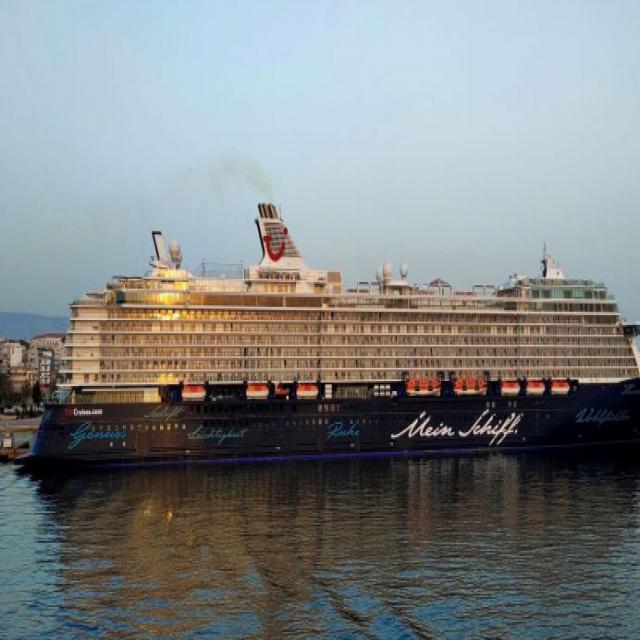cruises: (26, 202, 640, 466)
